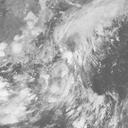cyclone: (34, 24, 90, 103)
